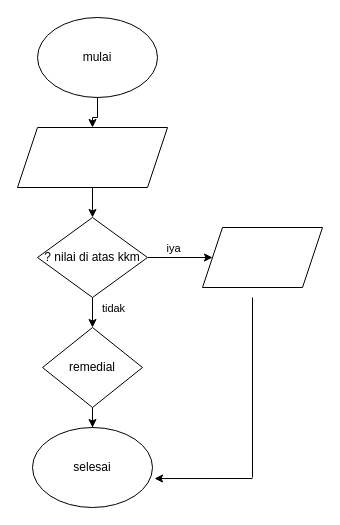
Some shapes in this 340 by 525 pixel diagram are drawn without their labels. The shapes that lost their labels are listed below. From the top down, each one's centre as x and y in pixels, then its label:
(92,157): input nilai nilai siswa
(262,257): di atas kkm
